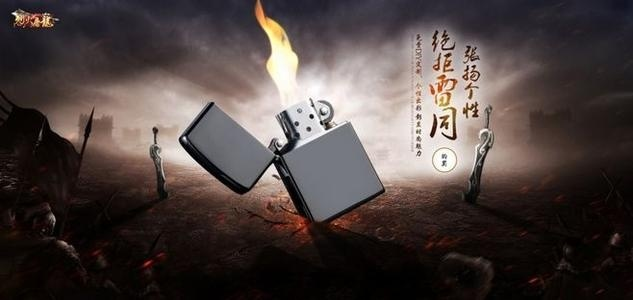fire: (253, 5, 301, 107)
